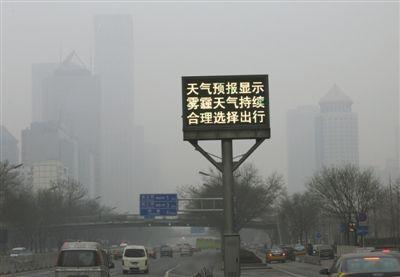car: (317, 249, 400, 276), (54, 240, 110, 277), (121, 244, 149, 274), (264, 246, 287, 263), (315, 244, 335, 260), (8, 246, 27, 262), (110, 244, 125, 260), (289, 243, 306, 257), (142, 245, 156, 260), (160, 244, 173, 258), (178, 243, 192, 255)
